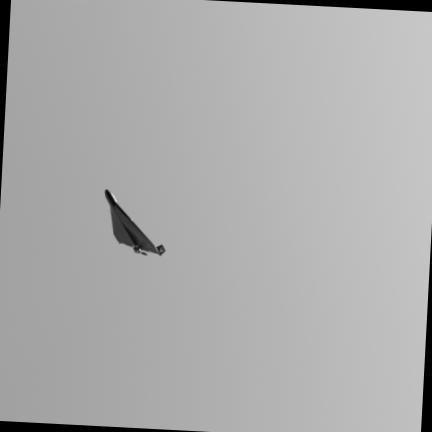Shahed: (105, 189, 164, 254)
